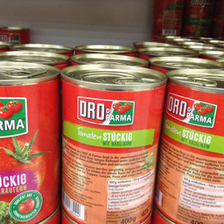tomato_sauce: (61, 63, 167, 223), (1, 61, 63, 224), (160, 68, 224, 223)
